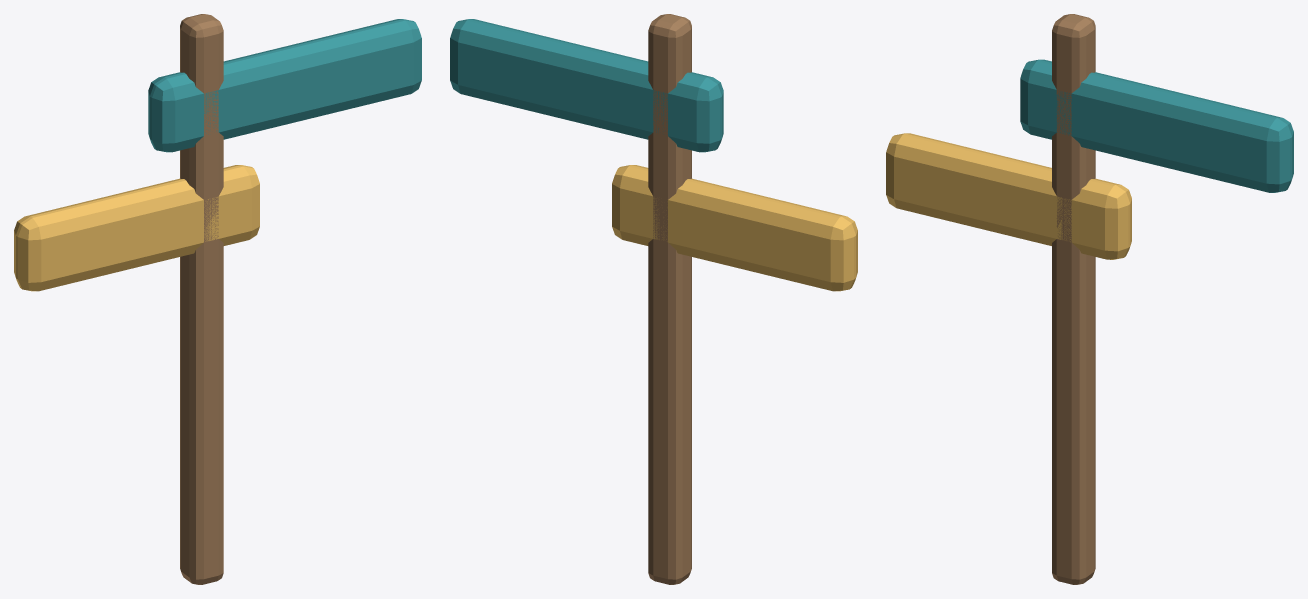
Rendered from trail_signpost_lod1_v1.glb.
The picture shows the model from 3 angles, left to right: view 1: azimuth 30°, elevation 25°; view 2: azimuth 150°, elevation 25°; view 3: azimuth 330°, elevation 25°; orthographic projection.
Visible parts, largest first — view 1: LOD1_TRAIL_SIGNPOST_Pole, LOD1_TRAIL_SIGNPOST_ArrowA, LOD1_TRAIL_SIGNPOST_ArrowB; view 2: LOD1_TRAIL_SIGNPOST_Pole, LOD1_TRAIL_SIGNPOST_ArrowA, LOD1_TRAIL_SIGNPOST_ArrowB; view 3: LOD1_TRAIL_SIGNPOST_Pole, LOD1_TRAIL_SIGNPOST_ArrowA, LOD1_TRAIL_SIGNPOST_ArrowB.
Part boxes in pixels (box(x1,y1,x2,y2)): LOD1_TRAIL_SIGNPOST_Pole: box(180, 14, 223, 584); LOD1_TRAIL_SIGNPOST_ArrowA: box(148, 19, 421, 152); LOD1_TRAIL_SIGNPOST_ArrowB: box(14, 165, 259, 291); LOD1_TRAIL_SIGNPOST_Pole: box(648, 14, 691, 584); LOD1_TRAIL_SIGNPOST_ArrowA: box(450, 19, 723, 152); LOD1_TRAIL_SIGNPOST_ArrowB: box(612, 165, 857, 291); LOD1_TRAIL_SIGNPOST_Pole: box(1052, 14, 1095, 584); LOD1_TRAIL_SIGNPOST_ArrowA: box(1020, 59, 1293, 192); LOD1_TRAIL_SIGNPOST_ArrowB: box(886, 133, 1131, 259).
Size of what is drawn, in the model's own units: 2.18 by 2.9 by 0.18.
